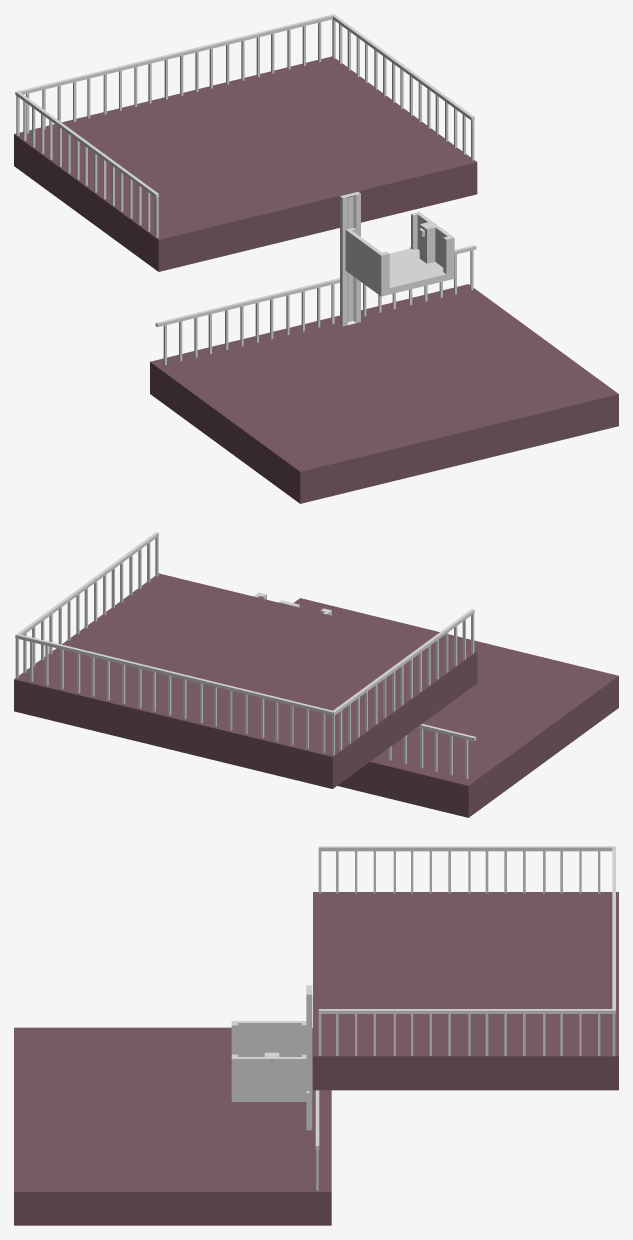
Rendered from Level22.glb.
3 renders of one model, top to bottom at view 1: azimuth 30°, elevation 25°; view 2: azimuth 150°, elevation 25°; view 3: azimuth 270°, elevation 25°, orthographic. The views are drawn at different scales.
Visible parts, largest first — view 1: Floor.001, Floor.002, Platform.Body, Fence.002, Fence.003, Fence.004, Fence.005, Platform.Track.Vert; view 2: Floor.002, Floor.001, Fence.002, Fence.004, Fence.005, Fence.003; view 3: Floor.002, Floor.001, Platform.Body, Fence.004, Fence.005, Platform.Track.Vert, Fence.002.
Boxes of the visible parts, box(x1,y1,x2,y2) form: Floor.001: box(150, 284, 618, 503); Floor.002: box(14, 56, 477, 271); Platform.Body: box(345, 212, 454, 296); Fence.002: box(15, 14, 335, 135); Fence.003: box(155, 245, 476, 365); Fence.004: box(17, 92, 158, 237); Fence.005: box(333, 15, 474, 160); Platform.Track.Vert: box(340, 191, 360, 326); Floor.002: box(14, 573, 477, 788); Floor.001: box(294, 598, 618, 817); Fence.002: box(15, 633, 335, 755); Fence.004: box(333, 609, 474, 750); Fence.005: box(17, 532, 158, 673); Fence.003: box(388, 724, 476, 779); Floor.002: box(313, 892, 618, 1090); Floor.001: box(14, 1027, 331, 1225); Platform.Body: box(231, 1021, 309, 1101); Fence.004: box(318, 846, 612, 893); Fence.005: box(318, 1009, 612, 1055); Platform.Track.Vert: box(306, 985, 312, 1130); Fence.002: box(612, 846, 615, 1056).
Size of the model in its own units: 10.4 by 6.35 by 16.18.
